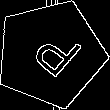P_SW: (19, 23, 82, 85)
